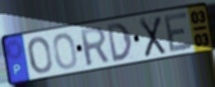D: (105, 21, 134, 64)
E: (163, 10, 195, 54)
O: (26, 36, 54, 76), (52, 31, 79, 71)
R: (78, 25, 111, 68)
X: (138, 15, 167, 59)
